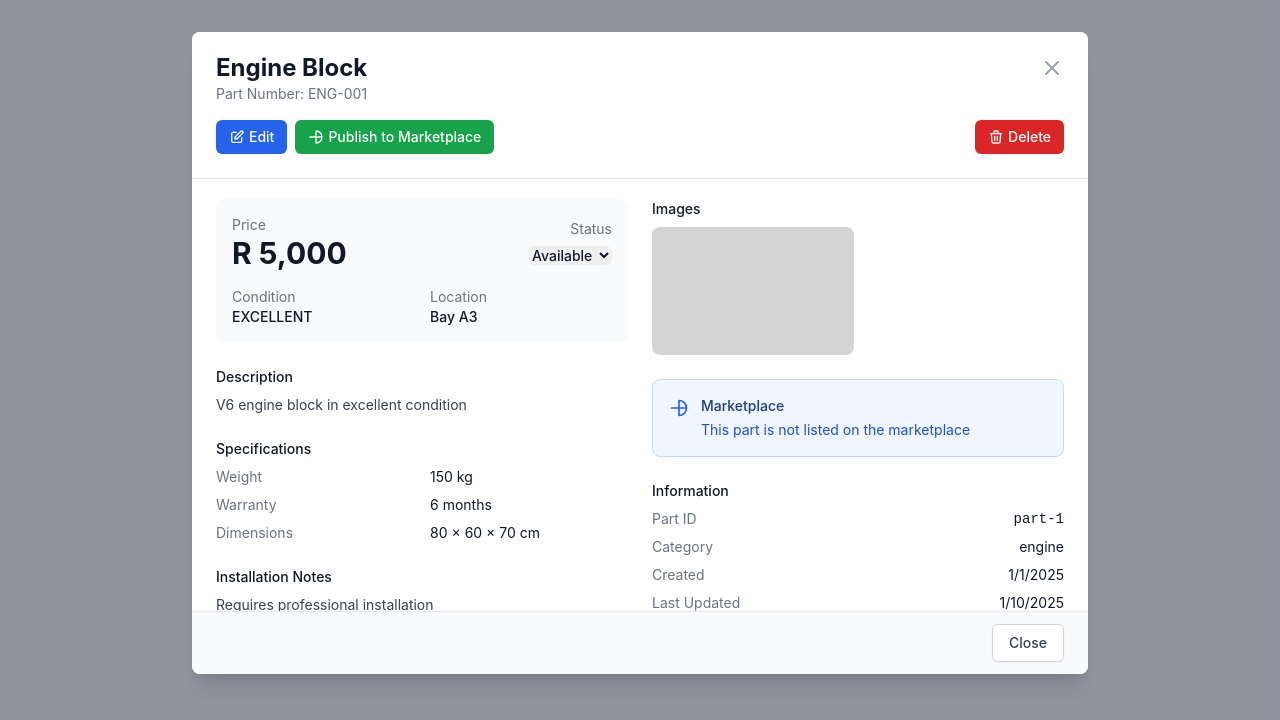
Test: PartDetailsModal › Delete Confirmation › shows delete confirmation when Delete button is clicked
Click the button "Delete". click: (1020, 137)
box: top-left (975, 120), bottom-right (1064, 154)
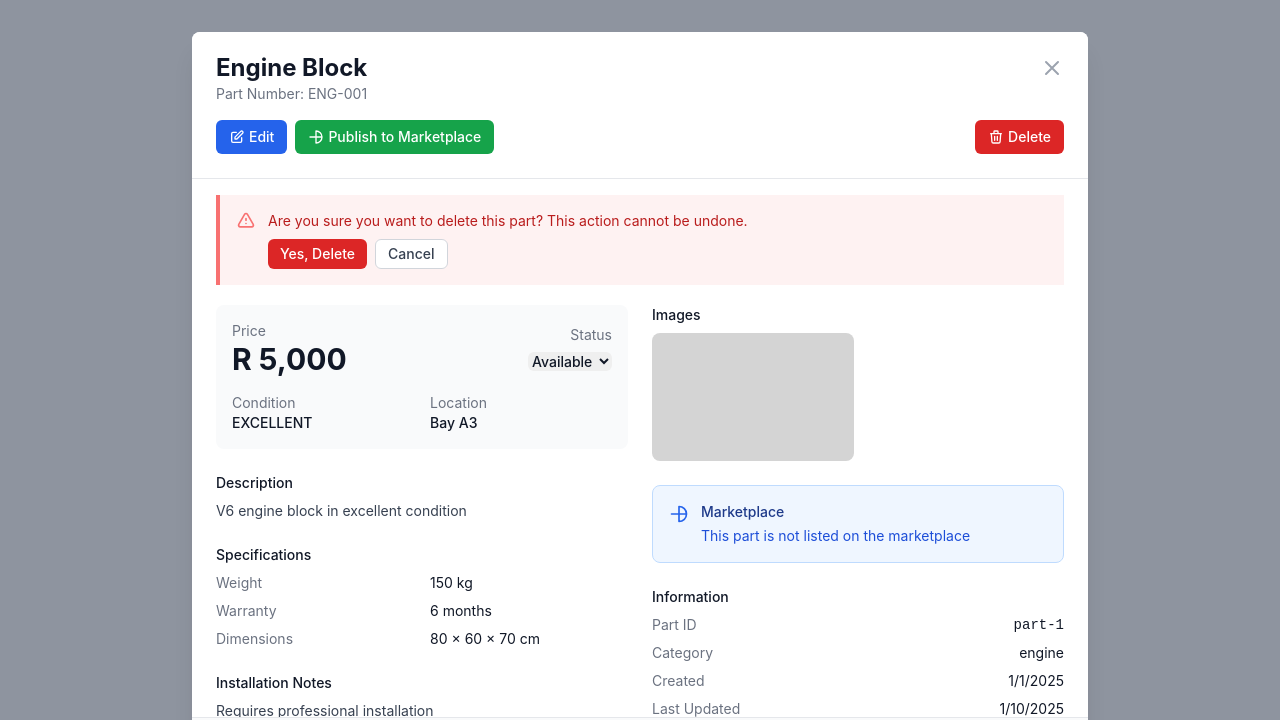
Now the text "Are you sure you want to delete this part" is shown, box top-left (268, 212), bottom-right (748, 229)
